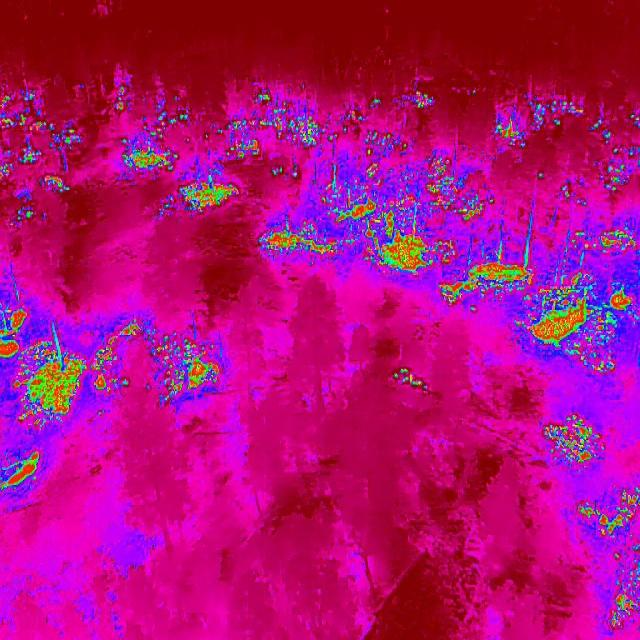fire: (320, 157, 536, 319), (0, 304, 139, 432), (0, 75, 81, 235), (520, 278, 638, 379), (218, 82, 336, 176), (575, 480, 640, 639), (117, 79, 205, 186), (148, 330, 226, 408), (336, 98, 416, 161), (255, 221, 345, 271), (564, 207, 640, 266), (540, 408, 607, 472), (168, 168, 242, 220), (597, 145, 640, 206), (531, 95, 587, 133), (0, 448, 42, 498), (484, 103, 524, 143), (393, 84, 441, 115), (556, 175, 595, 210), (392, 365, 429, 399), (590, 102, 616, 140), (110, 79, 131, 117), (622, 98, 640, 134)
